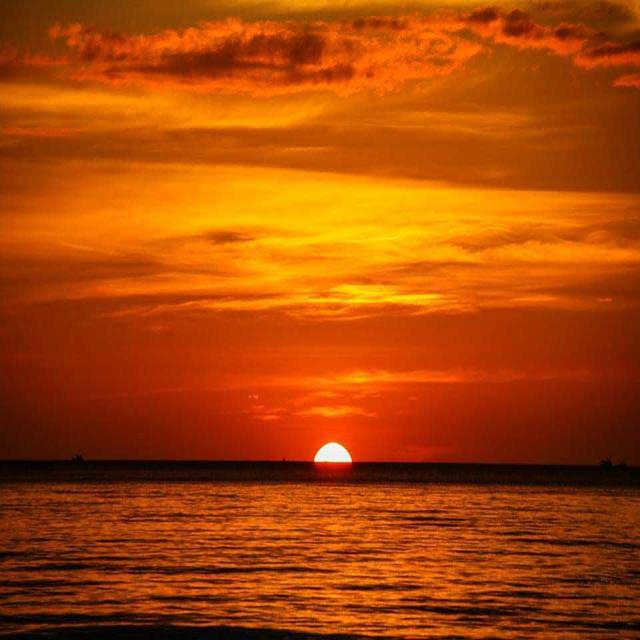other: (173, 162, 498, 320), (292, 427, 372, 484)
